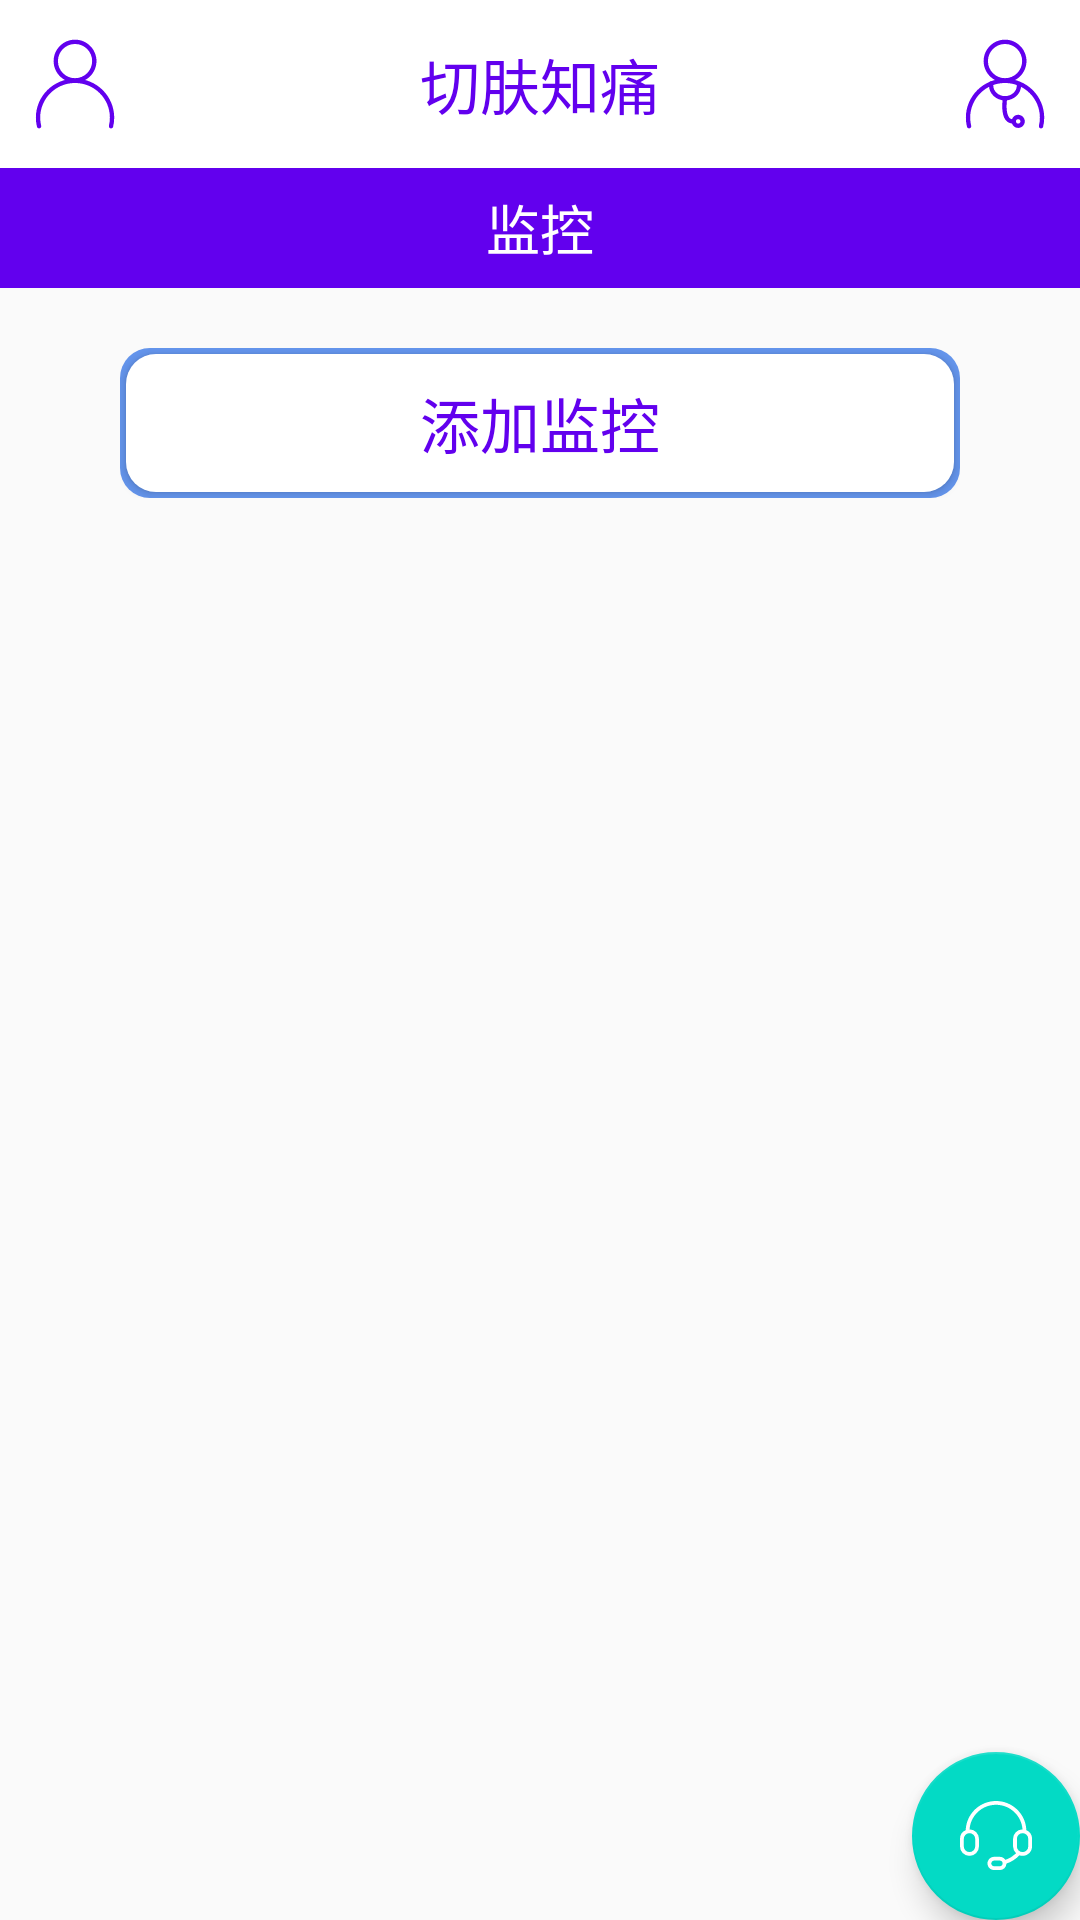

Icons on this 1080px×1920px Android screen, each with the point to tap as (x,y):
ask: (996,1836)
doctor: (1005,84)
